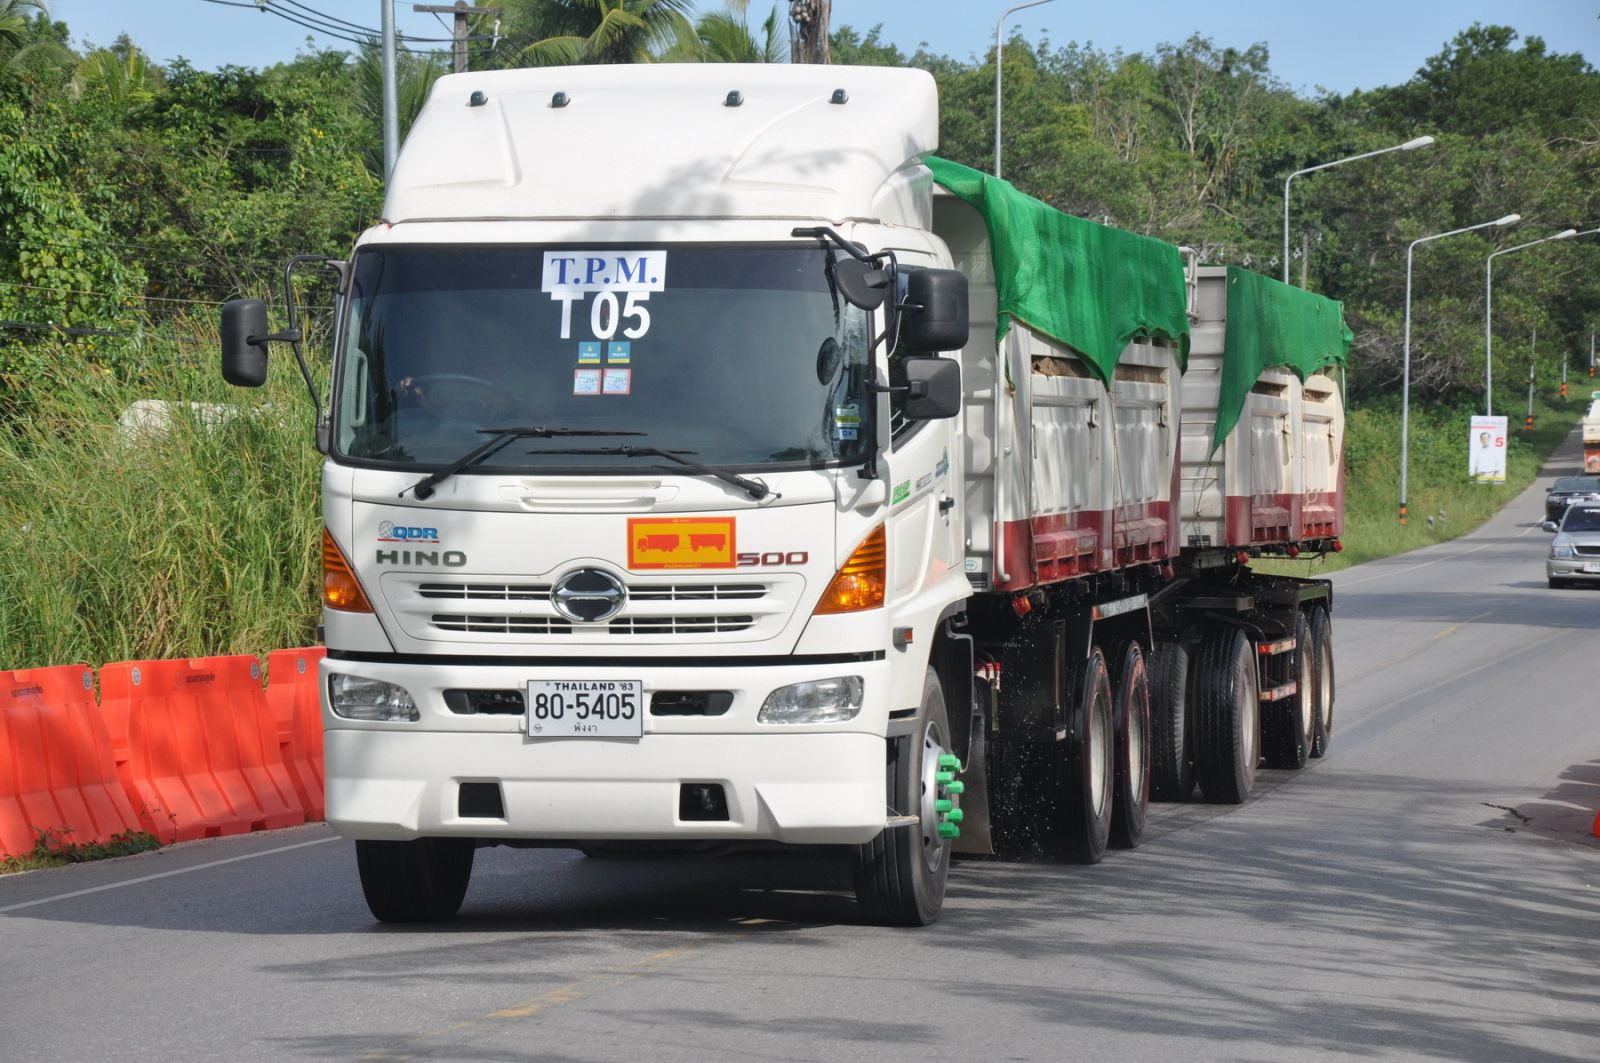truck: (306, 155, 1158, 916)
